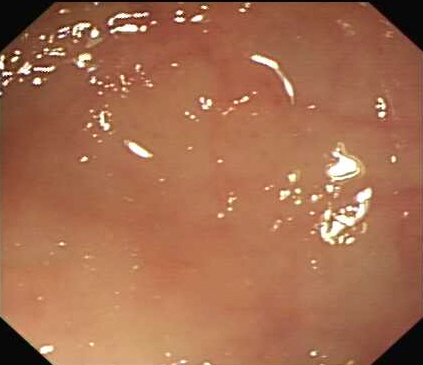others: (119, 54, 220, 137)
